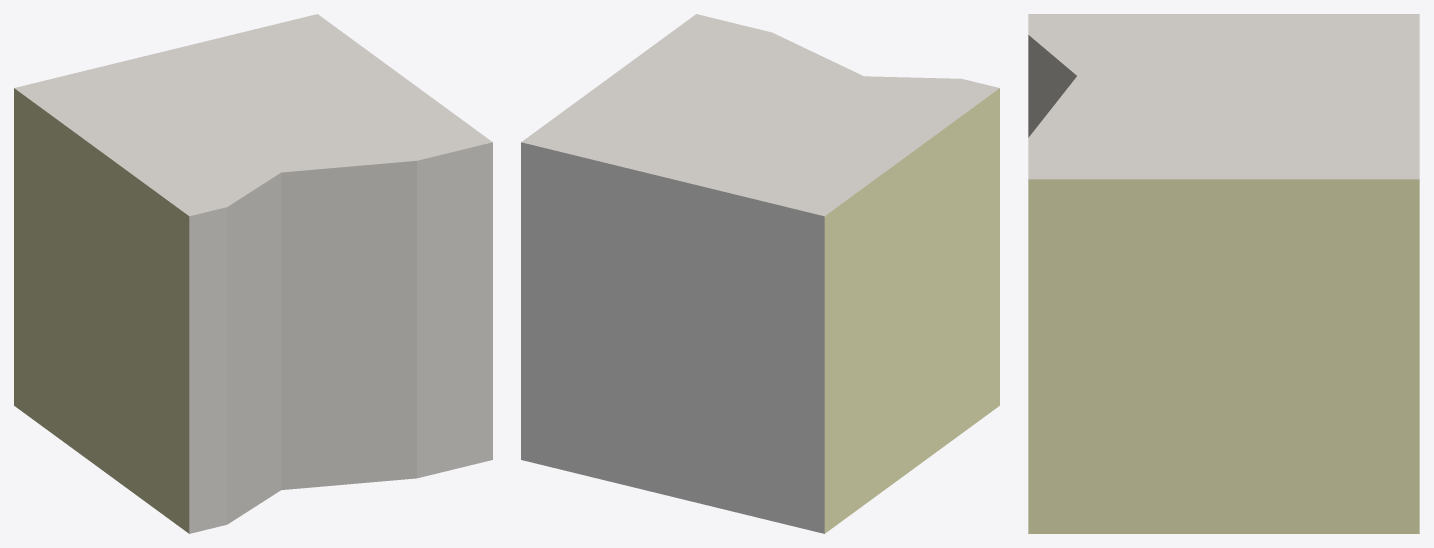
File: Cracked_Straight_1x2_1_Mid.fbx
3 renders of one model, left to right at view 1: azimuth 30°, elevation 25°; view 2: azimuth 150°, elevation 25°; view 3: azimuth 270°, elevation 25°, orthographic. The views are drawn at different scales.
Visible parts, largest first — view 1: Cracked_Straight_1x2_1_Mid; view 2: Cracked_Straight_1x2_1_Mid; view 3: Cracked_Straight_1x2_1_Mid.
Part boxes in pixels (<box>): Cracked_Straight_1x2_1_Mid: <box>14,14,492,533</box>; Cracked_Straight_1x2_1_Mid: <box>521,14,999,533</box>; Cracked_Straight_1x2_1_Mid: <box>1028,14,1419,533</box>.
Bounding box in the file's own units: 100 × 100 × 100.
